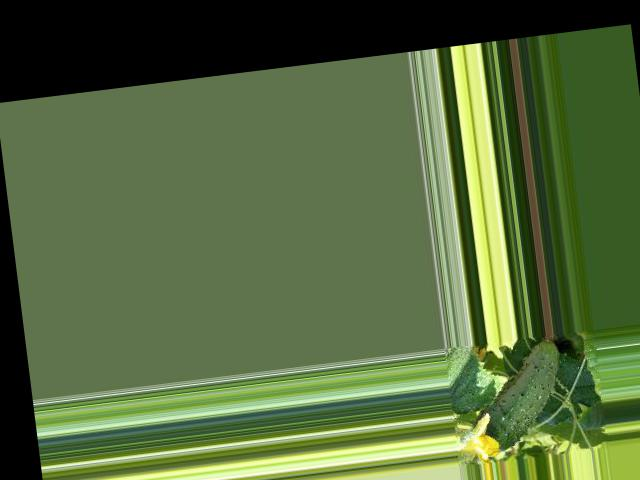cucumber: (463, 333, 570, 454)
